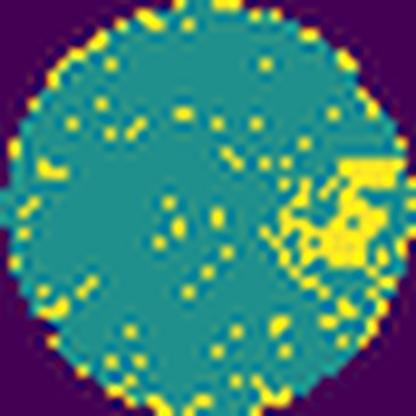Loc: (272, 156, 406, 274)
